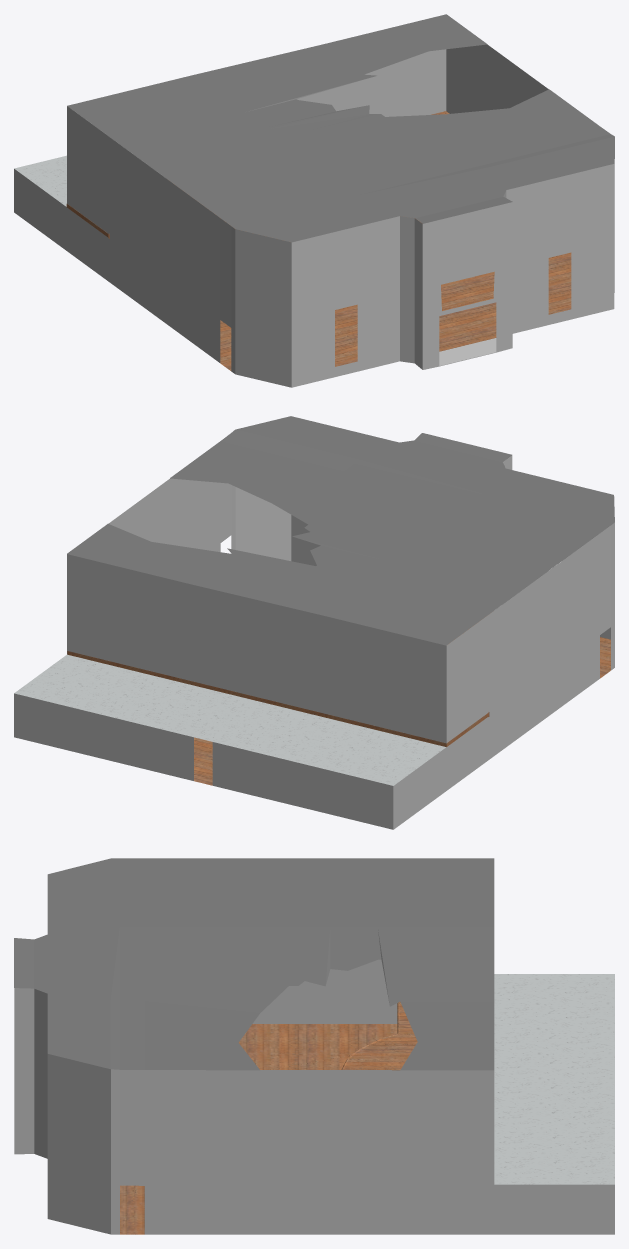
Rendered from hall_roto.FBX.
3 renders of one model, top to bottom at view 1: azimuth 30°, elevation 25°; view 2: azimuth 150°, elevation 25°; view 3: azimuth 270°, elevation 25°, orthographic. The views are drawn at different scales.
Parts seen in each view (by area): view 1: techo; view 2: techo; view 3: techo.
Boxes of the visible parts, x1,y1,x2,y2 form: techo: [14, 14, 614, 387]; techo: [14, 416, 614, 829]; techo: [14, 858, 614, 1234].
Bounding box in the file's own units: 4206 × 5062 × 1553.
